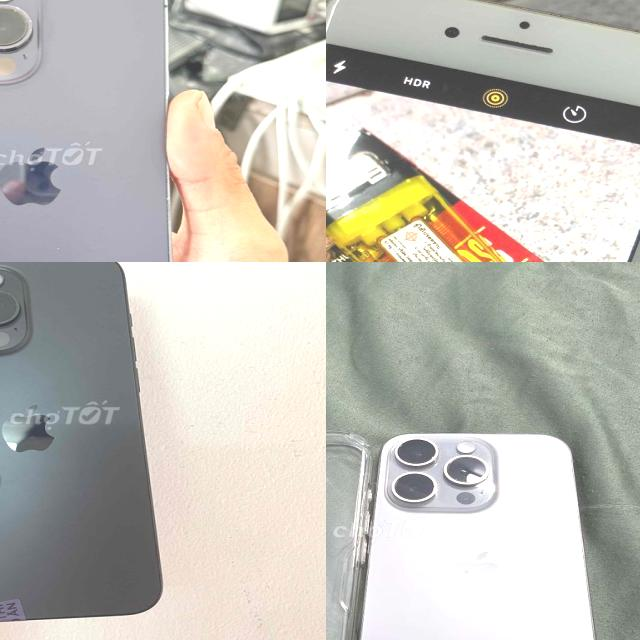gen_14: (0, 0, 182, 262)
gen_15: (0, 262, 172, 633), (341, 413, 619, 640)
gen_7_8: (326, 0, 640, 262)
